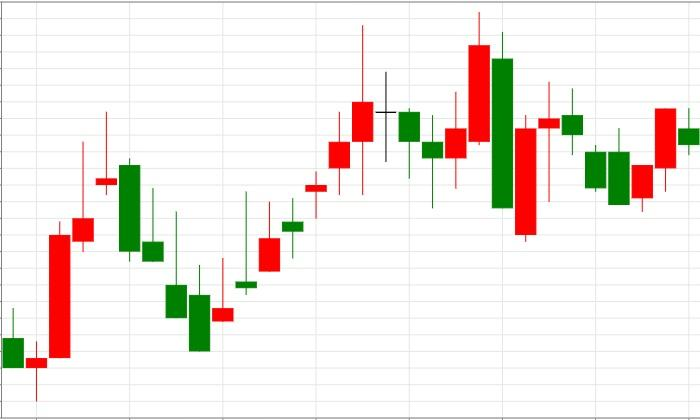evening_star_fall: (187, 25, 420, 352)
